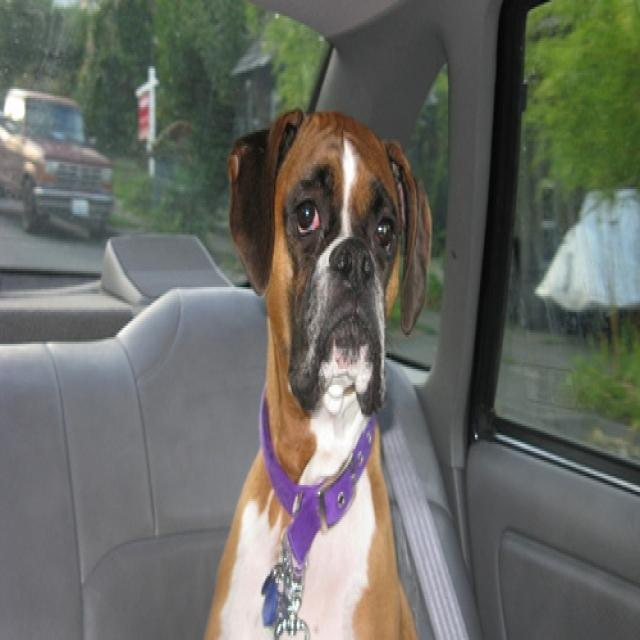dog-boxer: (202, 100, 438, 635)
